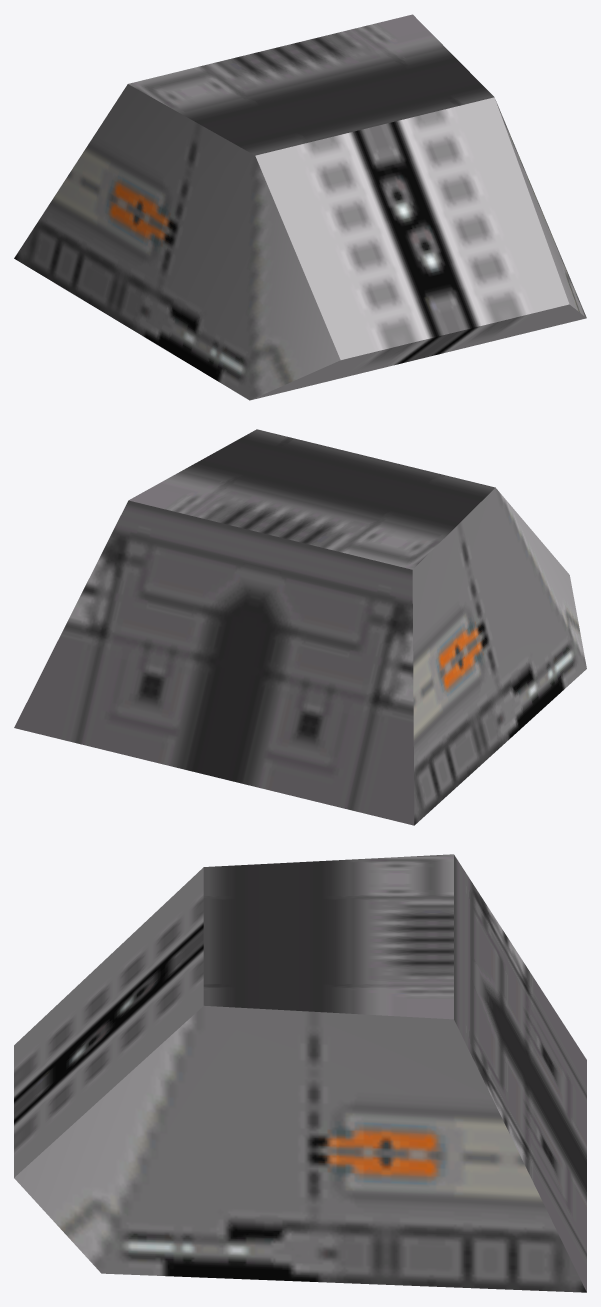
The model's file is turret3.obj.
3 renders of one model, top to bottom at view 1: azimuth 30°, elevation 25°; view 2: azimuth 150°, elevation 25°; view 3: azimuth 270°, elevation 25°, orthographic. The views are drawn at different scales.
Visible parts, largest first — view 1: gun_front, gun_sides, gun_top; view 2: gun_back, gun_sides, gun_top; view 3: gun_sides, gun_top, gun_back, gun_front.
Boxes of the visible parts, box(x1,y1,x2,y2) form: gun_front: box(251, 97, 586, 399); gun_sides: box(14, 84, 586, 400); gun_top: box(128, 14, 494, 155); gun_back: box(14, 500, 414, 825); gun_sides: box(412, 487, 586, 825); gun_top: box(129, 429, 495, 569); gun_sides: box(14, 1005, 586, 1292); gun_top: box(203, 854, 453, 1019); gun_back: box(454, 855, 586, 1291); gun_front: box(14, 867, 203, 1177).
Size of the model in its own units: 17.52 by 8.4 by 18.24.
